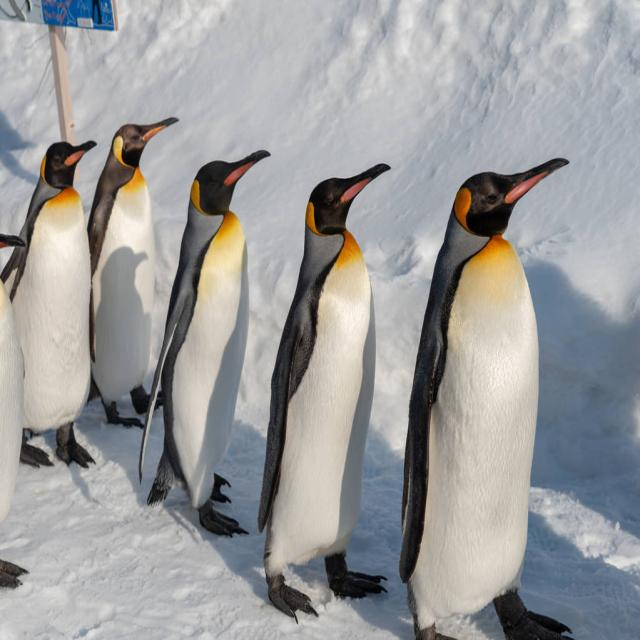Penguins: (401, 141, 584, 640), (268, 152, 391, 618), (153, 146, 266, 577), (82, 108, 184, 430), (14, 134, 92, 470), (1, 212, 30, 594)
